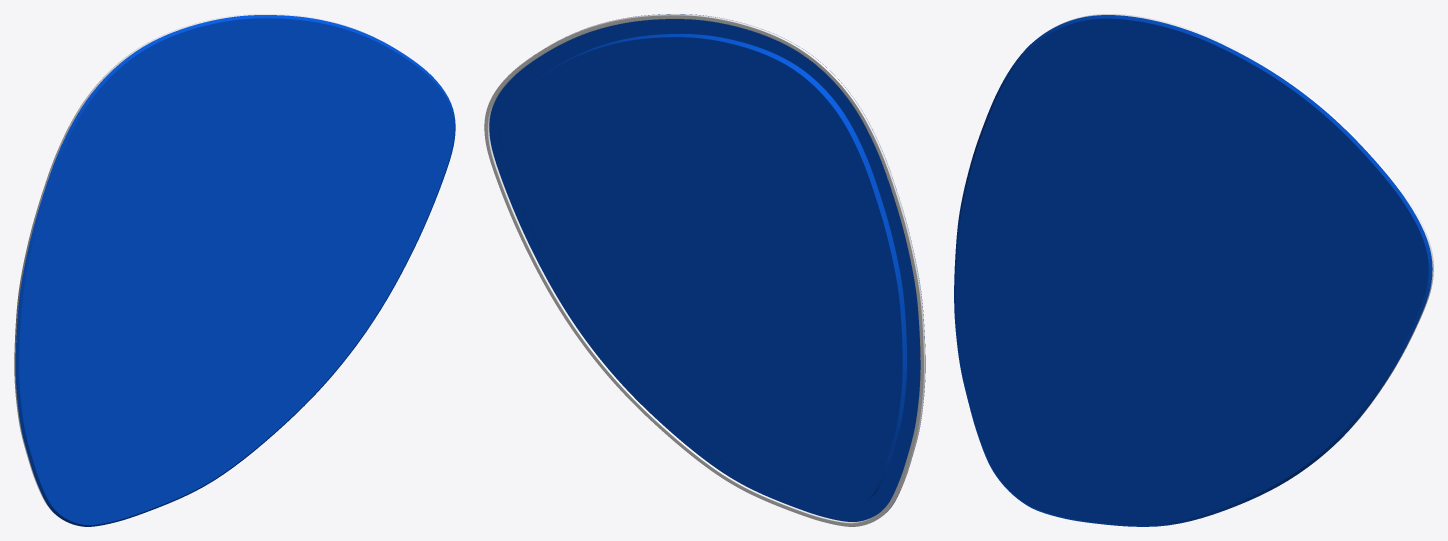
Rendered from Oriole-M.glb.
3 views of the same model, side by side, from view 1: azimuth 30°, elevation 25°; view 2: azimuth 150°, elevation 25°; view 3: azimuth 330°, elevation 25° (orthographic). The views are drawn at different scales.
Visible parts, largest first — view 1: Oriole, Oriole_Led; view 2: Oriole, Oriole_Led; view 3: Oriole, Oriole_Led.
Part boxes in pixels (box(x1,y1,x2,y2)): Oriole: box(15, 15, 455, 526); Oriole_Led: box(14, 14, 395, 516); Oriole: box(489, 14, 925, 521); Oriole_Led: box(484, 14, 925, 526); Oriole: box(954, 15, 1432, 526); Oriole_Led: box(1050, 14, 1433, 449).
Size of the model in its own units: 1.81 by 1.87 by 0.0374.
